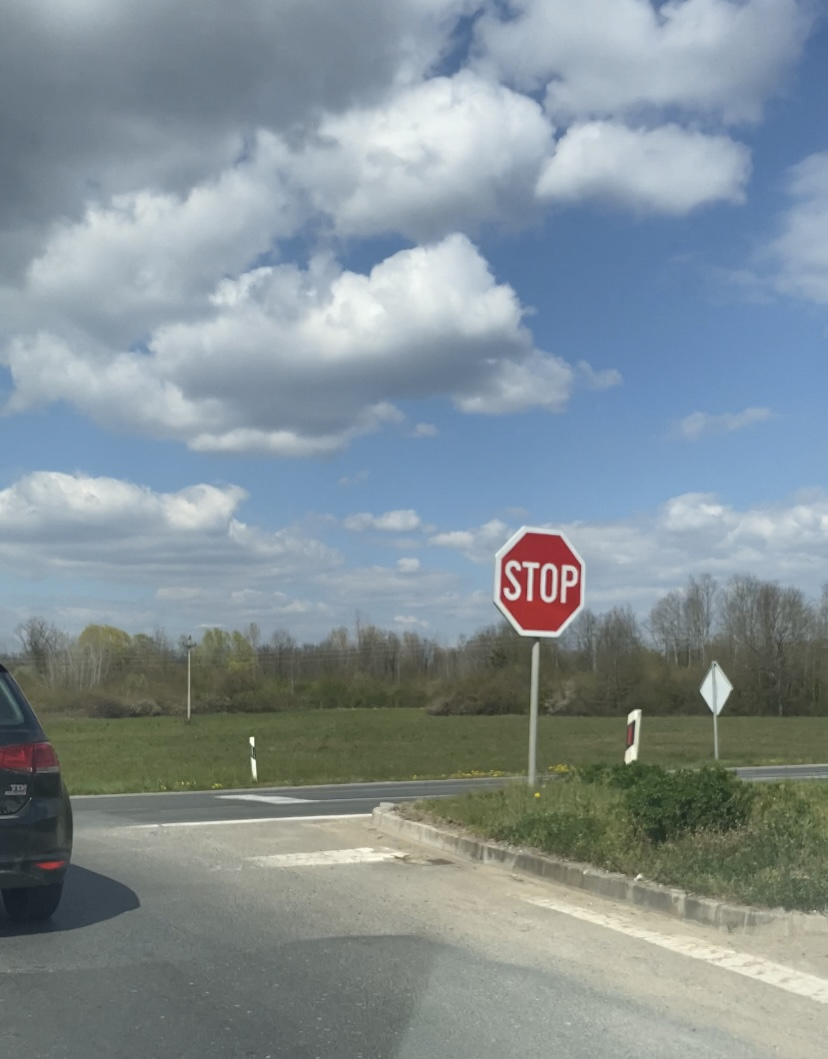Obavezno zaustavljanje: (493, 525, 586, 638)
